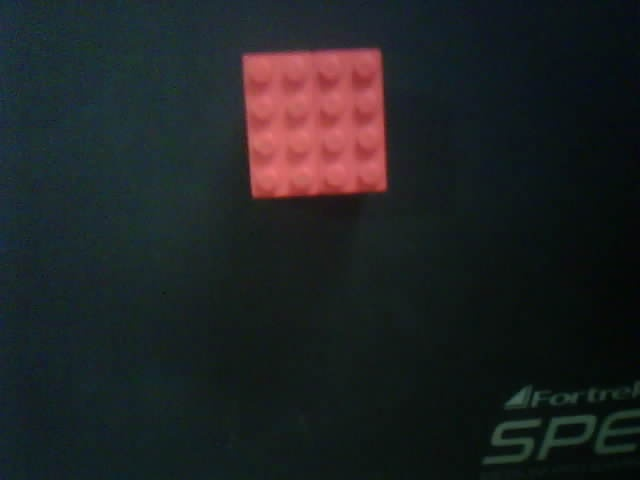lego: (239, 48, 391, 202)
